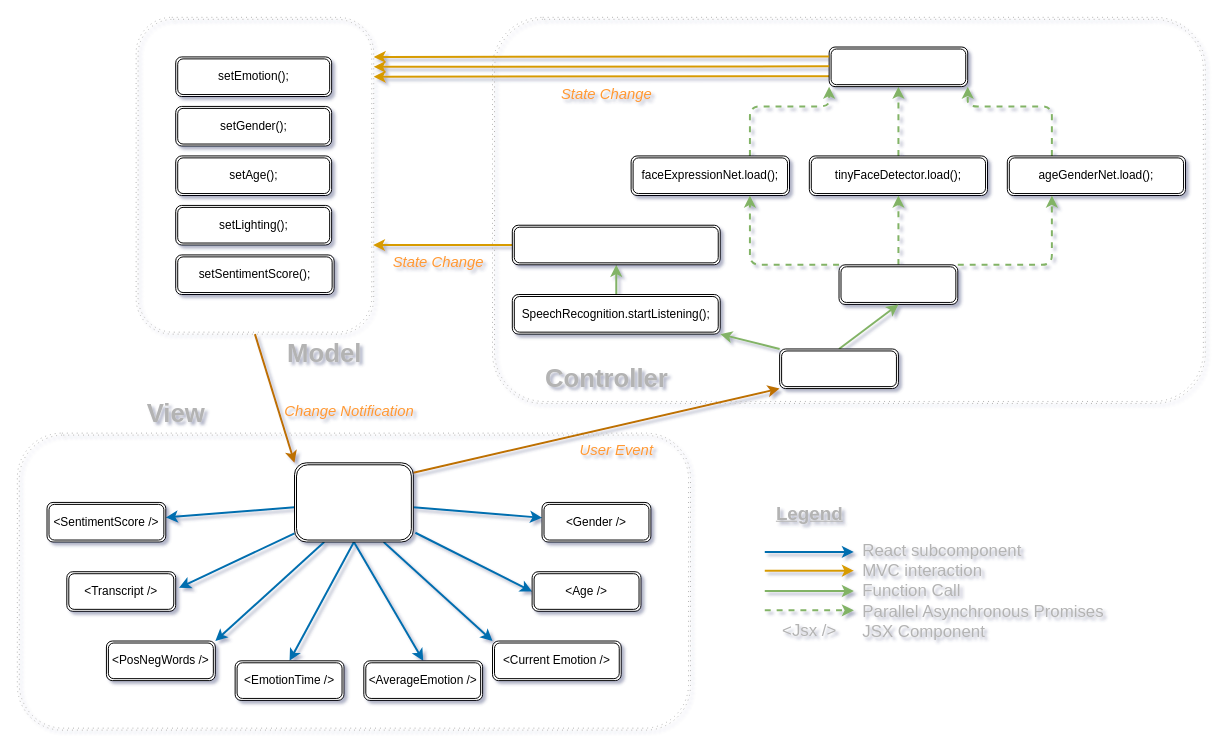
Some shapes in this 1229 by 753 pixel diagram are drawn without their labels. The box of each missing label's shape, as (x1, y1, x2, y2) in pixels:
<Dashboard />: (294, 462, 413, 542)
attributeClassification();: (828, 46, 968, 87)
loadModels();: (838, 264, 958, 304)
sentiment.analyze();: (511, 224, 720, 265)
useEffect();: (779, 348, 898, 389)
